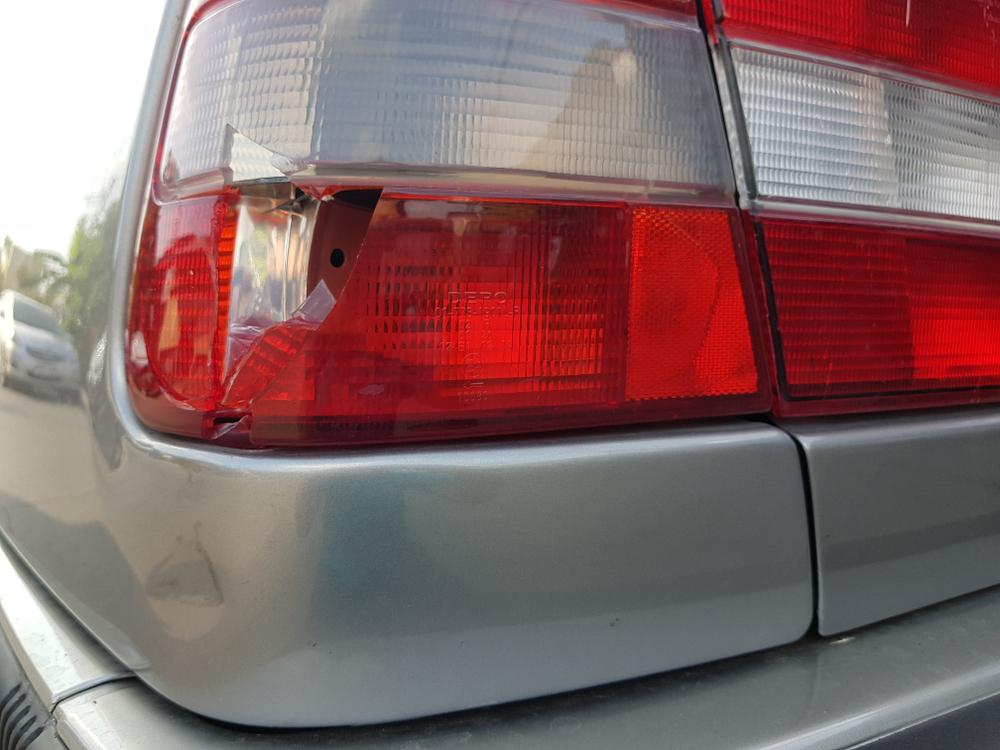dent: (146, 530, 222, 638)
lamp broken: (125, 0, 779, 458)
